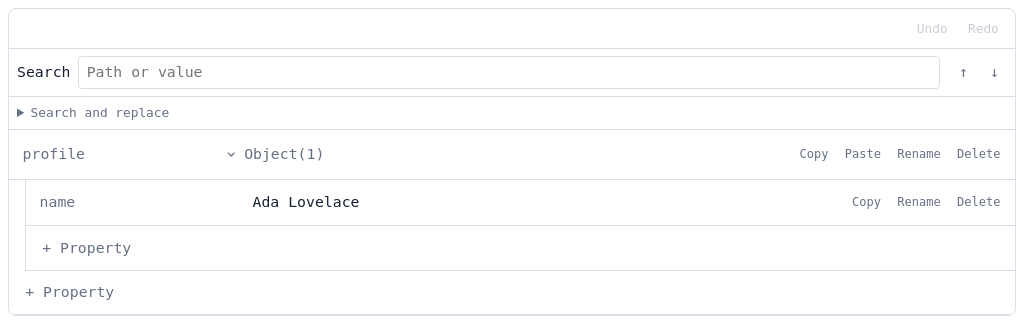
Test: ObjectEditor › searches paths and values and expands matching branches
Click the button with aria-label "Collapse profile".
click(275, 154)  # box x1=218 y1=136 x2=332 y2=173
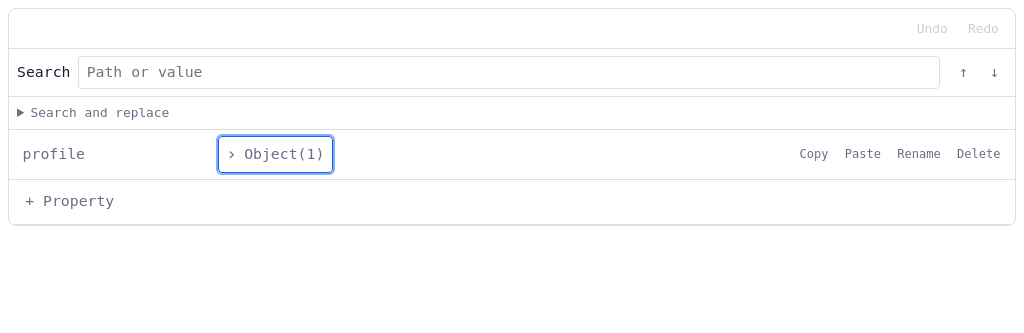
Type "Ada" into the search field named "Search object".
click(509, 72); type("Ada")  # box x1=78 y1=56 x2=940 y2=89
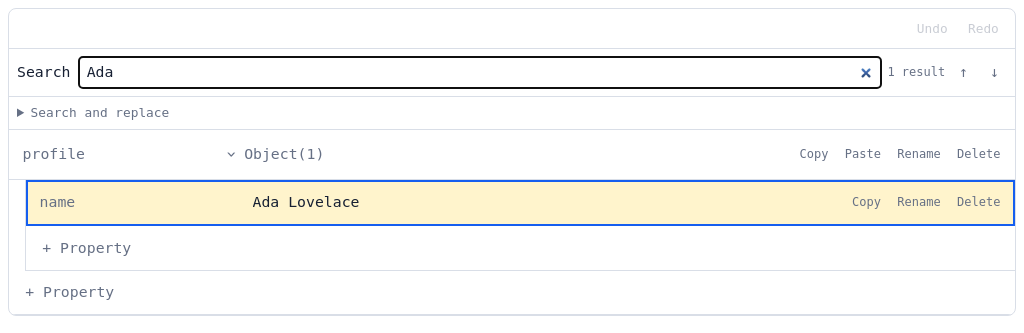
Result: the text "1 result" is shown at x1=887 y1=64 x2=945 y2=81
Result: the field named "profile.name" is shown at x1=244 y1=186 x2=830 y2=220
